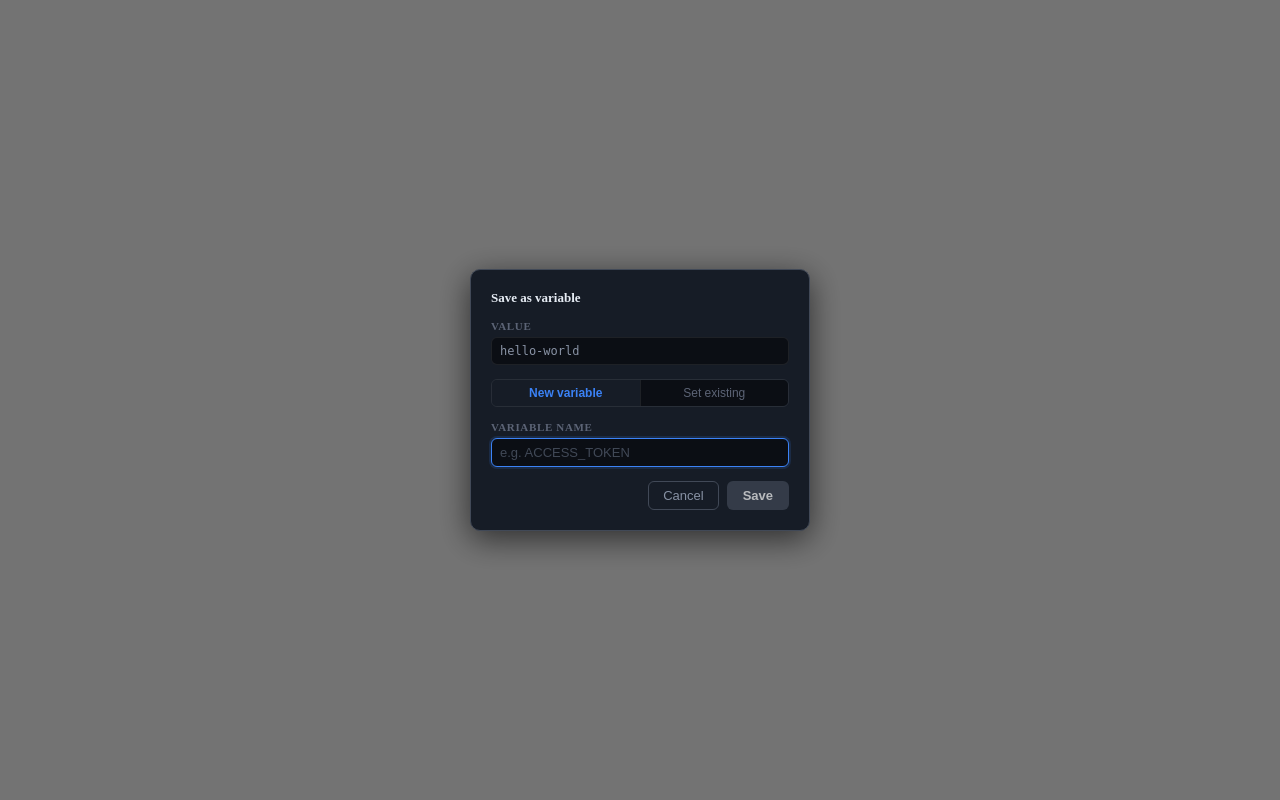
Test case: SaveVarDialog — set existing mode › shows a dropdown with existing var names
The image size is (1280, 800).
What coordinates should you click on to do the following:
click the button "Set existing"
I would click on:
 (714, 393)
Its box is [640,380,788,406].
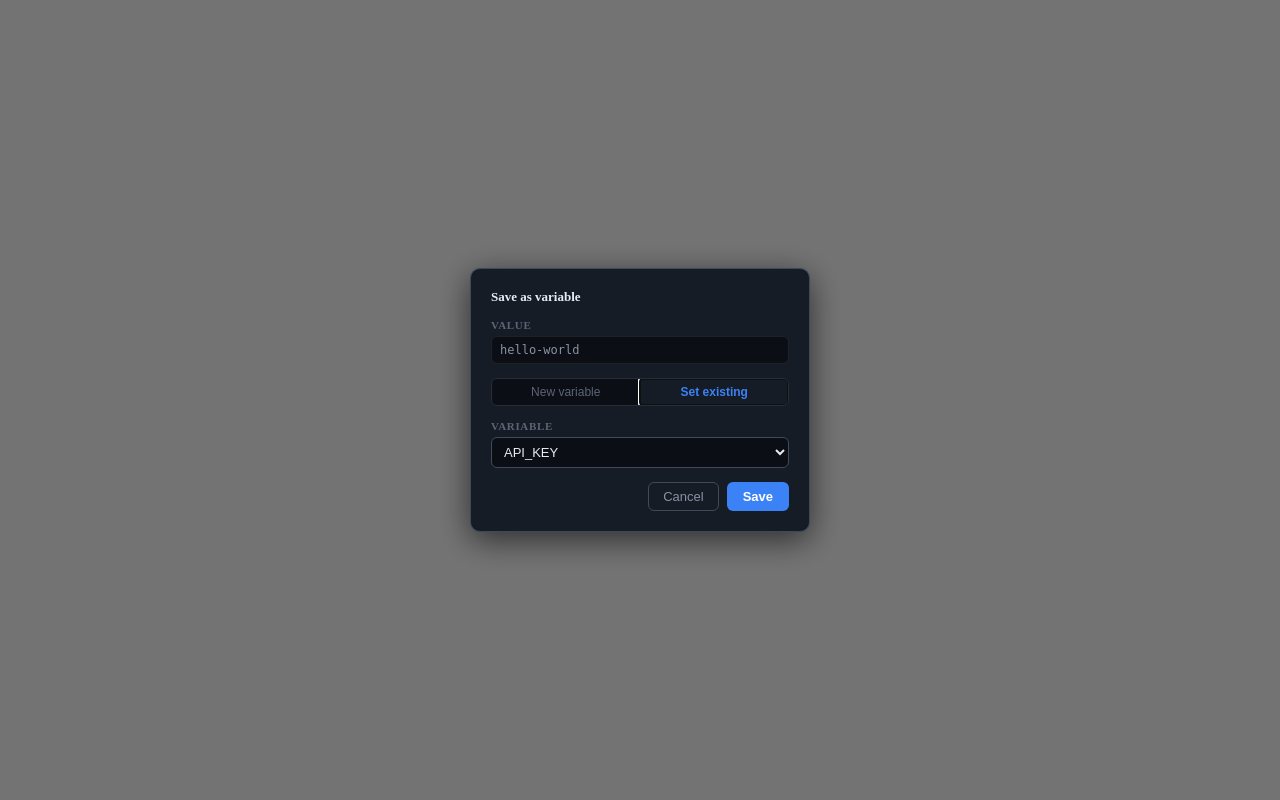
Expected: the dropdown is shown, [491,437,789,468]
